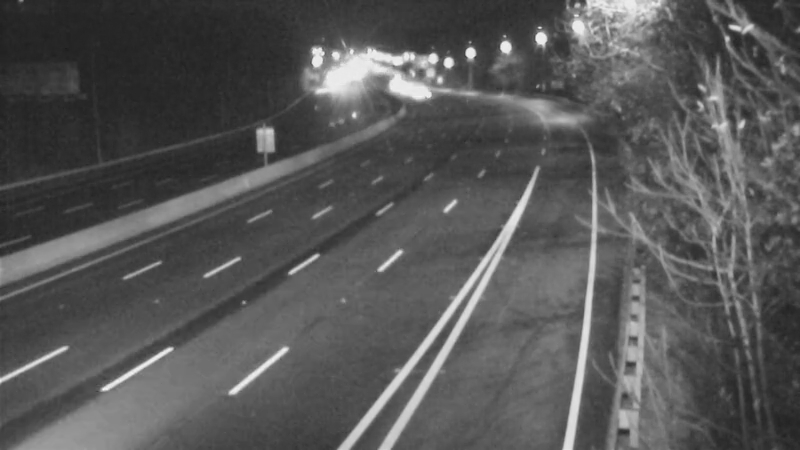vehicle: (367, 59, 417, 109), (396, 66, 446, 116)
